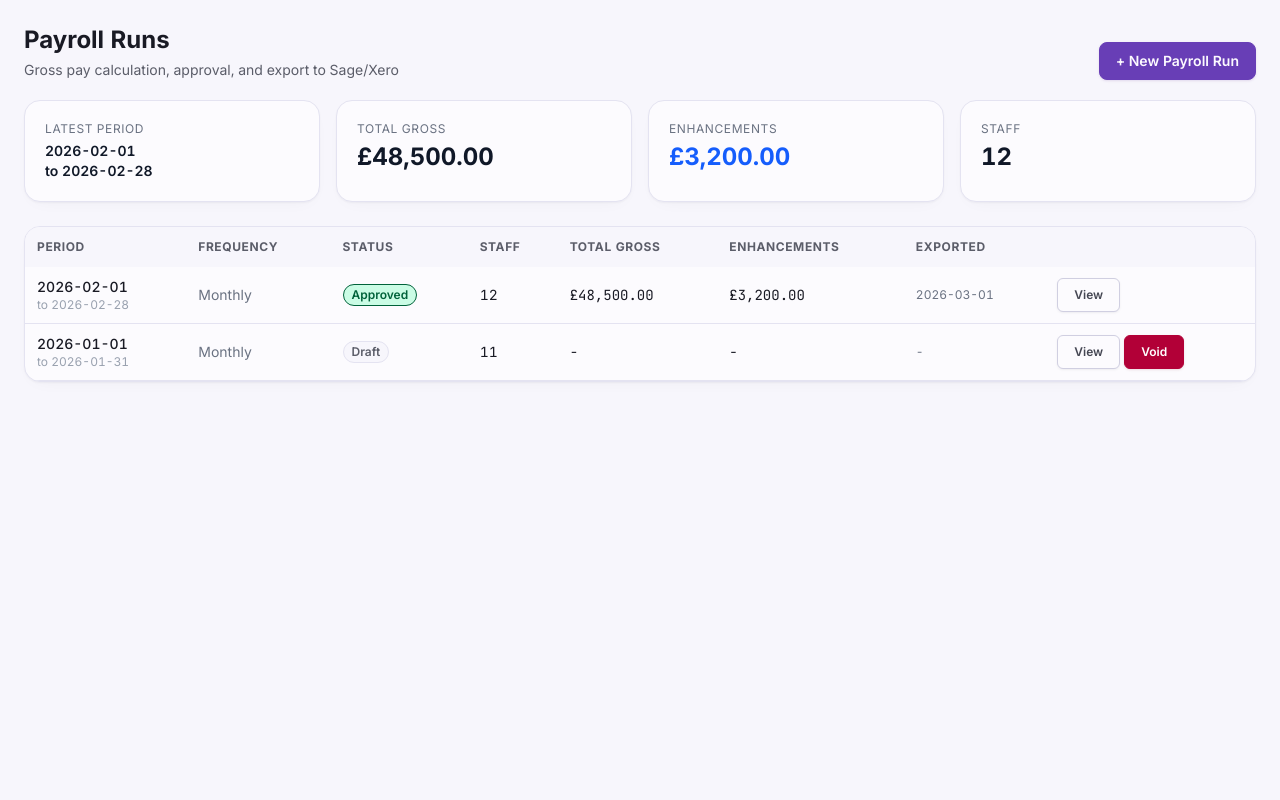
Test case: PayrollDashboard › opens create modal when New Payroll Run is clicked
Expected: the text "Approved" is shown, top-left (342, 284), bottom-right (417, 306)
Click the button "+ New Payroll Run" at [1177, 61], box top-left (1099, 42), bottom-right (1256, 80)
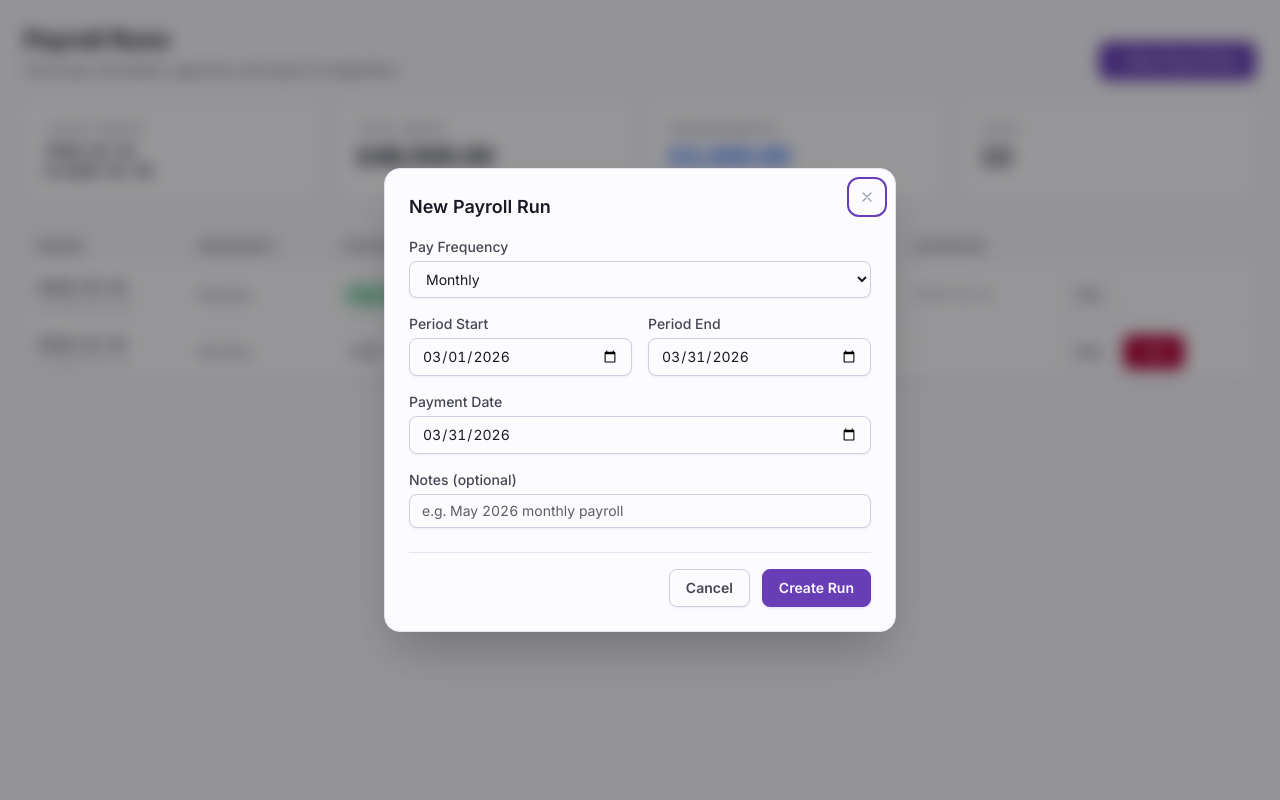
Expected: the heading "New Payroll Run" is shown, top-left (409, 196), bottom-right (551, 217)
Expected: the dropdown labelled "Pay Frequency" is shown, top-left (409, 261), bottom-right (871, 298)
Expected: the date field labelled "Period Start" is shown, top-left (409, 338), bottom-right (632, 376)
